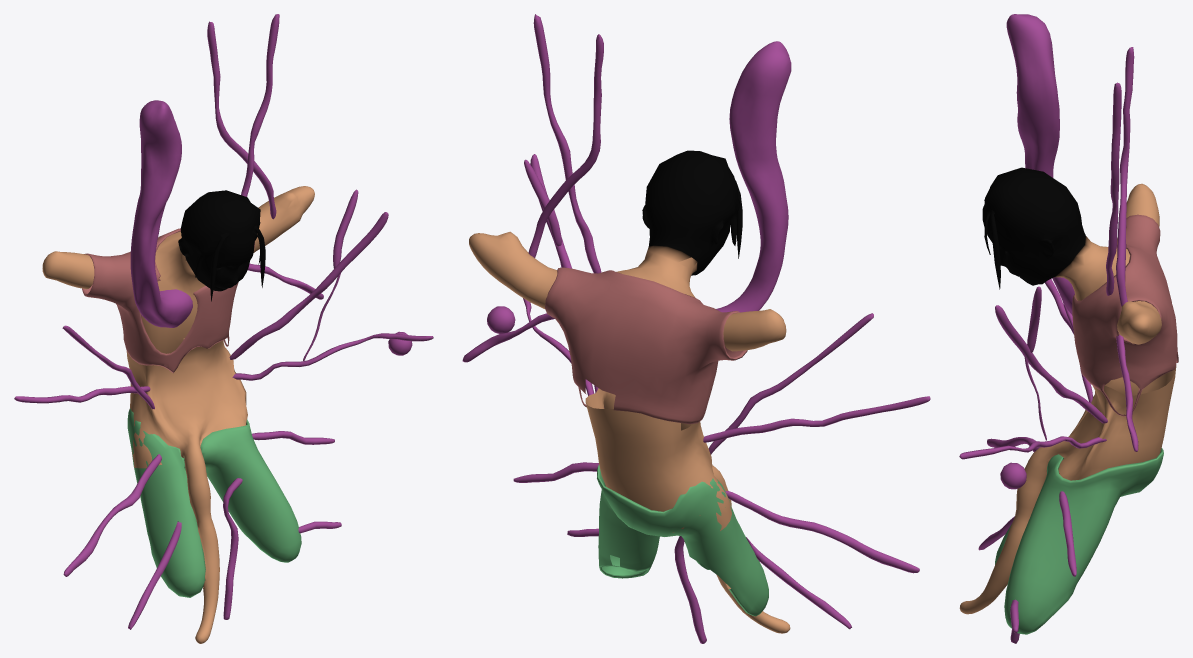
The model's file is Kid_Only_Low_Poly.fbx.
3 renders of one model, left to right at view 1: azimuth 30°, elevation 25°; view 2: azimuth 150°, elevation 25°; view 3: azimuth 270°, elevation 25°, orthographic. The views are drawn at different scales.
Parts seen in each view (by area): view 1: Kid_Haed_Tool2, Branches, Pants, Shirt; view 2: Kid_Haed_Tool2, Branches, Shirt, Pants; view 3: Kid_Haed_Tool2, Branches, Pants, Shirt.
Part boxes in pixels (<box>): Kid_Haed_Tool2: <box>42,186,314,643</box>; Branches: <box>14,14,433,629</box>; Pants: <box>127,408,301,597</box>; Shirt: <box>82,228,254,373</box>; Kid_Haed_Tool2: <box>469,150,790,633</box>; Branches: <box>462,14,930,643</box>; Shirt: <box>545,267,747,424</box>; Pants: <box>597,464,768,616</box>; Kid_Haed_Tool2: <box>959,167,1176,614</box>; Branches: <box>959,14,1138,643</box>; Pants: <box>995,448,1163,634</box>; Shirt: <box>1072,214,1178,416</box>.
Size of the model in its own units: 0.0945 by 0.1284 by 0.0414.
